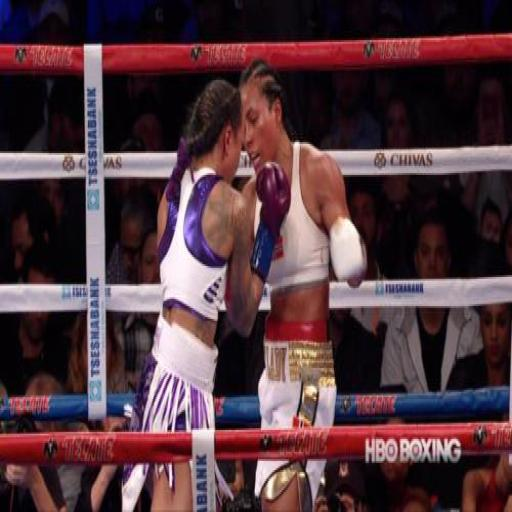boxing: (123, 77, 290, 510), (236, 58, 368, 508)
